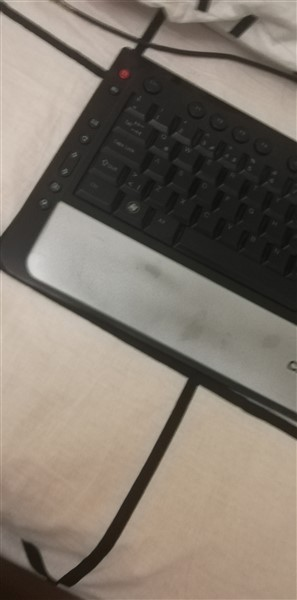klavye: (1, 32, 297, 434)
